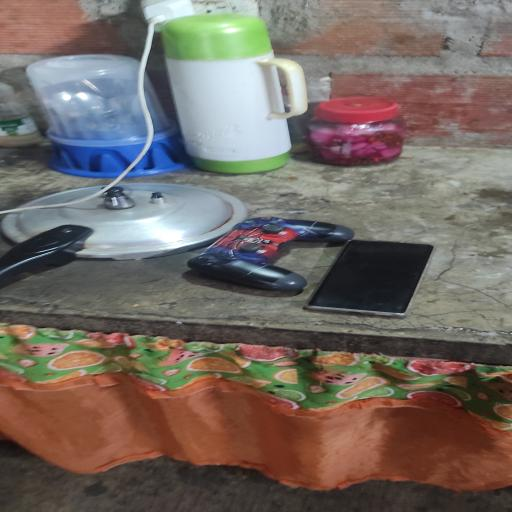ControlPlay4: (188, 216, 353, 291)
